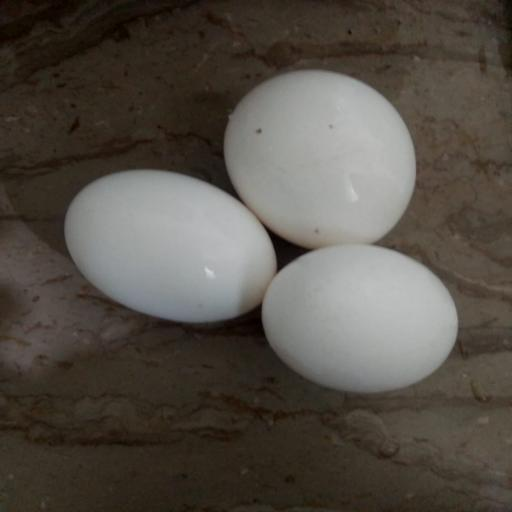telur: (224, 70, 418, 246), (62, 170, 280, 324), (260, 243, 460, 393)
